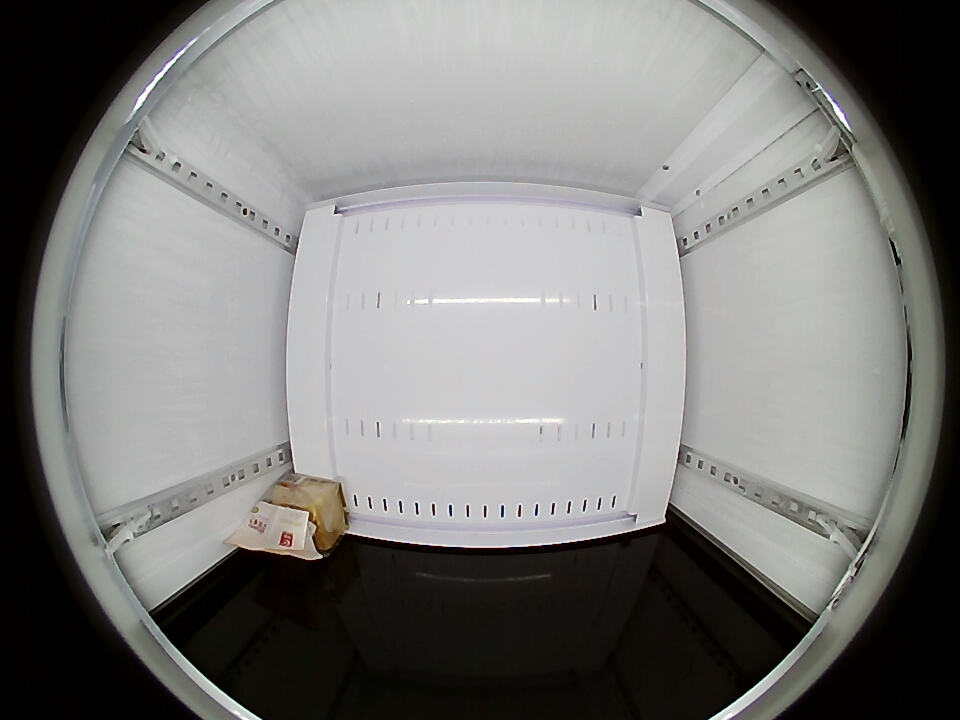zaocanmofang: (230, 485, 340, 561)
